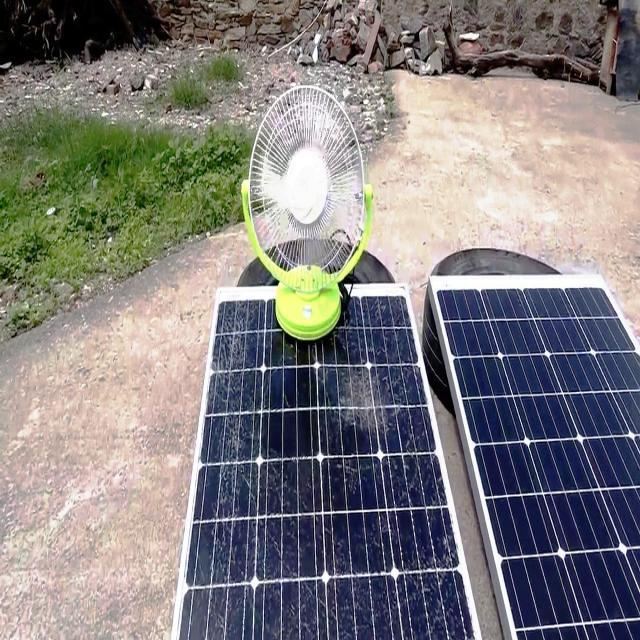faulty: (168, 286, 482, 640)
no faulty: (433, 279, 640, 640)
